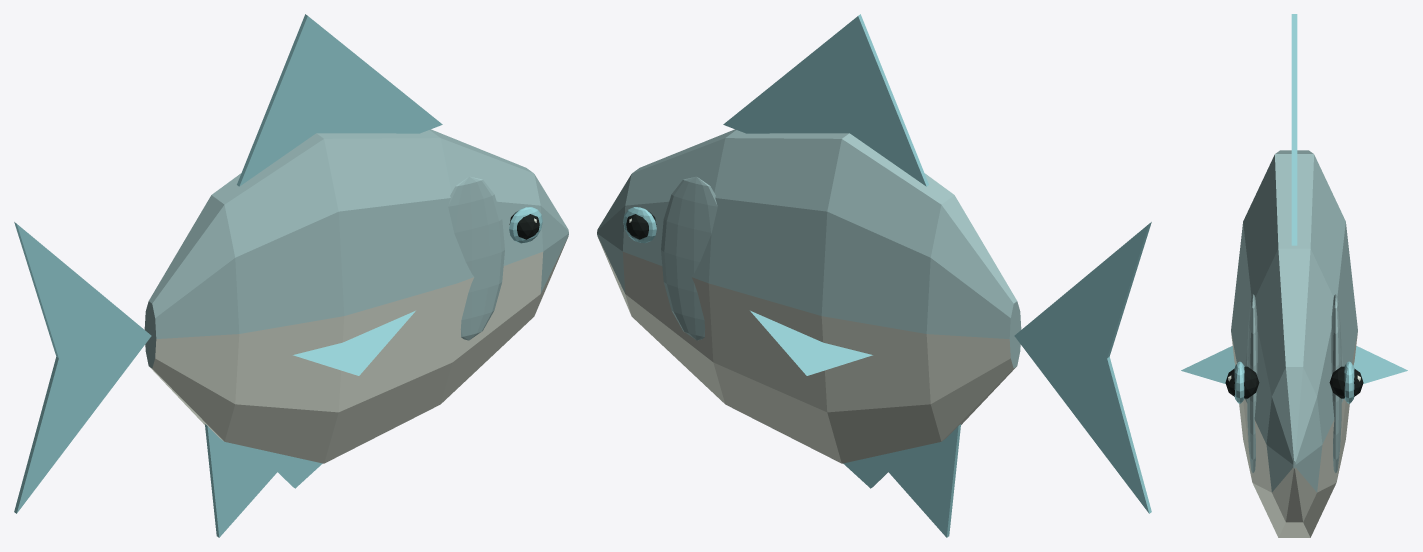
File: moon.glb
3 renders of one model, left to right at view 1: azimuth 30°, elevation 25°; view 2: azimuth 150°, elevation 25°; view 3: azimuth 270°, elevation 25°, orthographic. The views are drawn at different scales.
Parts seen in each view (by area): view 1: moon_Body, Dorsal.005, TailFinLower.004, TailFin.005, Gill_plate.010, Anal_fin.005, Pectoral.010, Ventral_crescent; view 2: moon_Body, Dorsal.005, TailFinLower.004, TailFin.005, Gill_plate.011, Anal_fin.005, Pectoral.011, Ventral_crescent; view 3: moon_Body, Dorsal.005, Gill_plate.010, Gill_plate.011, Pectoral.010, Pectoral.011, Eye.010, Eye.011, Iris_rim.010, Iris_rim.011.
Part boxes in pixels (x1,y1,x2,y2): moon_Body: [144, 129, 568, 463]; Dorsal.005: [237, 14, 442, 186]; TailFinLower.004: [14, 336, 151, 513]; TailFin.005: [14, 222, 151, 358]; Gill_plate.010: [448, 176, 504, 340]; Anal_fin.005: [205, 424, 289, 537]; Pectoral.010: [293, 310, 415, 375]; Ventral_crescent: [254, 448, 322, 488]; moon_Body: [597, 129, 1021, 463]; Dorsal.005: [723, 14, 928, 186]; TailFinLower.004: [1014, 336, 1151, 513]; TailFin.005: [1014, 222, 1151, 358]; Gill_plate.011: [661, 176, 717, 340]; Anal_fin.005: [875, 424, 960, 537]; Pectoral.011: [750, 310, 872, 375]; Ventral_crescent: [843, 448, 911, 488]; moon_Body: [1231, 150, 1357, 537]; Dorsal.005: [1291, 20, 1297, 245]; Gill_plate.010: [1247, 294, 1257, 472]; Gill_plate.011: [1331, 294, 1341, 472]; Pectoral.010: [1181, 346, 1235, 383]; Pectoral.011: [1353, 346, 1407, 383]; Eye.010: [1225, 366, 1259, 398]; Eye.011: [1329, 366, 1363, 398]; Iris_rim.010: [1234, 361, 1244, 403]; Iris_rim.011: [1344, 361, 1354, 403].
Bounding box in the file's own units: 1.96 × 1.7 × 0.646.
